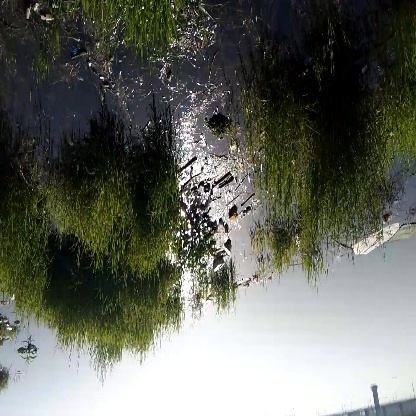plastic-bag: (348, 223, 402, 262)
